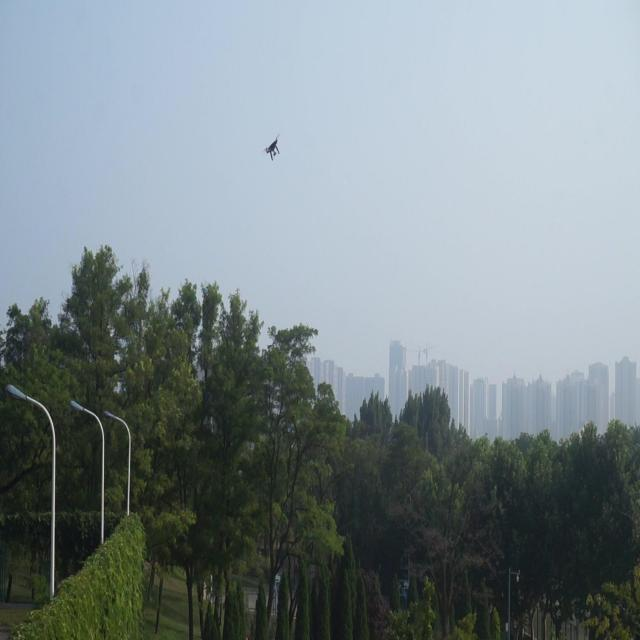UAV: (262, 134, 281, 162)
